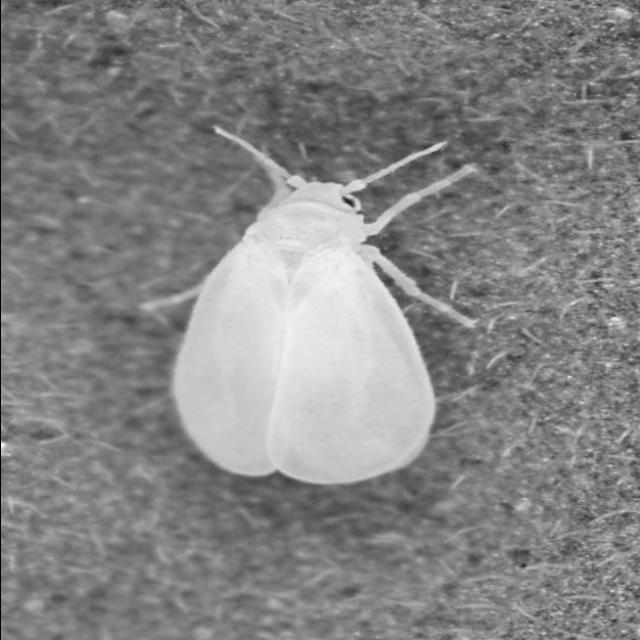Whitefly: (108, 113, 489, 495)
